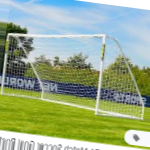goals: (1, 32, 146, 121)
